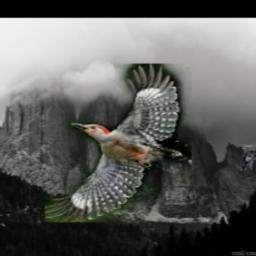Crow: (240, 145, 256, 171)
Woodpecker: (45, 64, 191, 222)
